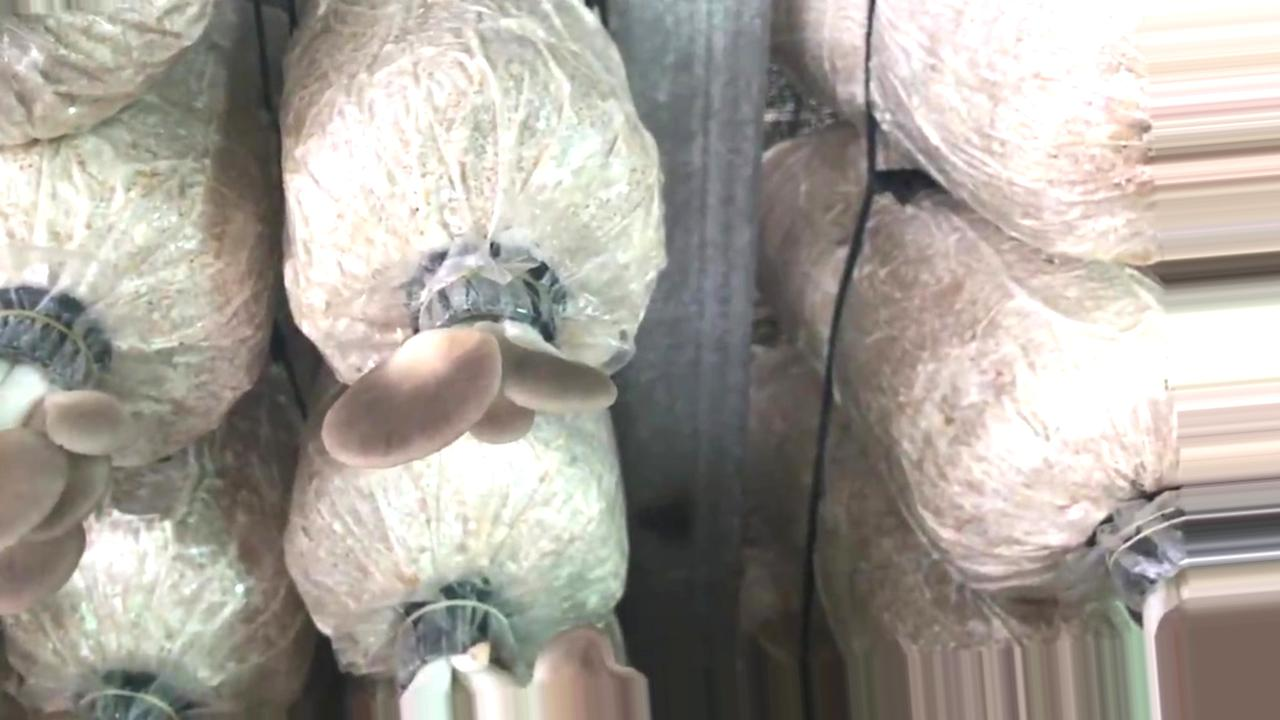nam: (325, 273, 606, 468), (1, 300, 125, 606)
